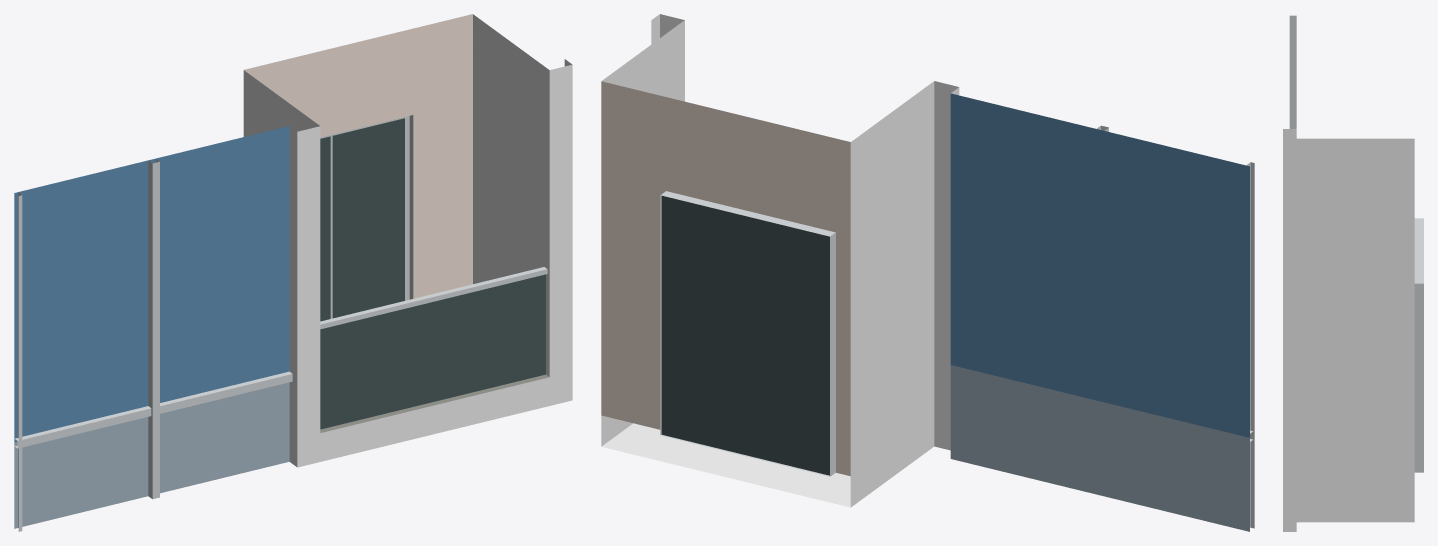
The model's file is mid-w1.fbx.
The picture shows the model from 3 angles, left to right: view 1: azimuth 30°, elevation 25°; view 2: azimuth 150°, elevation 25°; view 3: azimuth 270°, elevation 25°; orthographic projection. The views are drawn at different scales.
Visible parts, largest first — view 1: a2011/0/mid-w1; view 2: a2011/0/mid-w1; view 3: a2011/0/mid-w1.
Part boxes in pixels (x1,y1,x2,y2): a2011/0/mid-w1: [14, 14, 572, 531]; a2011/0/mid-w1: [601, 14, 1254, 531]; a2011/0/mid-w1: [1283, 15, 1423, 531].
Bounding box in the file's own units: 6 × 3.5 × 1.55.
